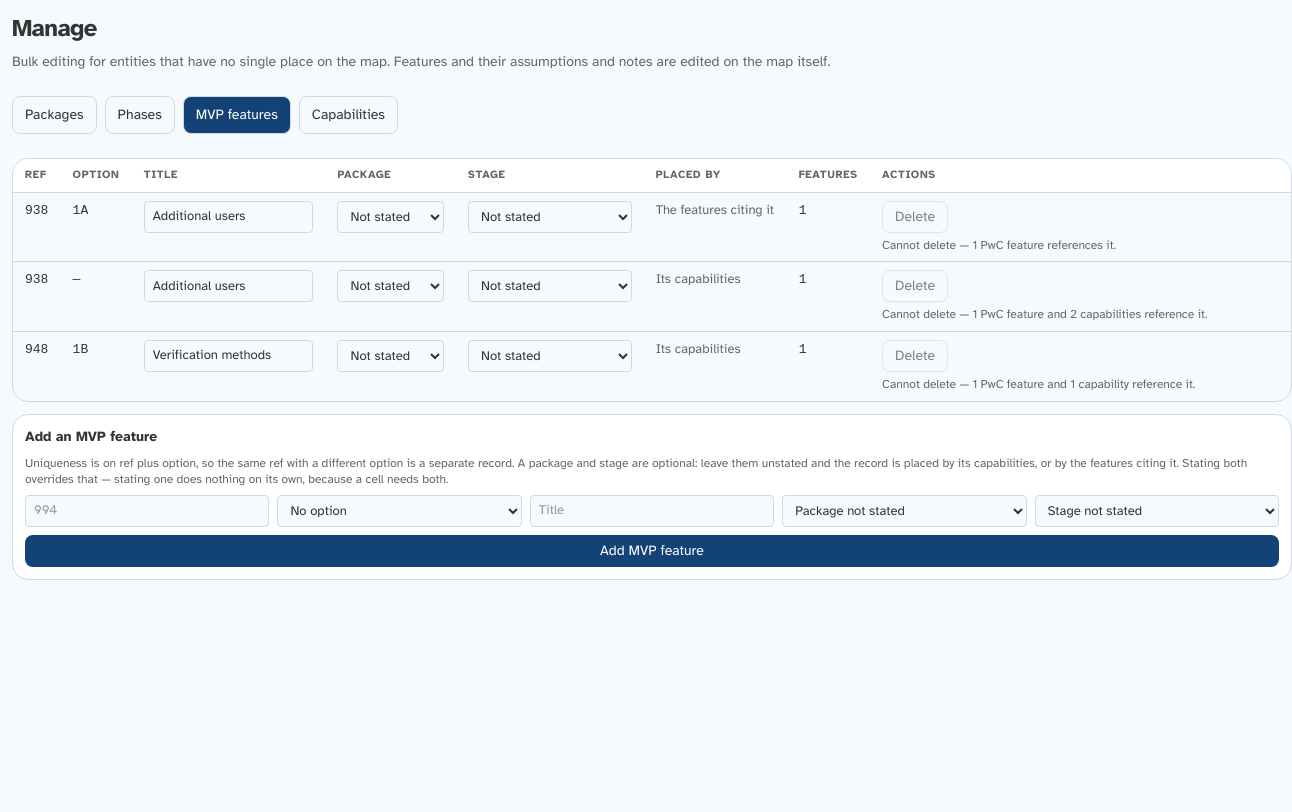
Test: Manage — adding an MSD feature › names a ref that is not a number back to the person who typed it
The width and height of the screenshot is (1292, 812).
Check: the table named "MVP features" is shown, box [13,159,1291,401]
Type "99a" into the field named "New MVP ref" at [147, 511], box [25,495,269,527]
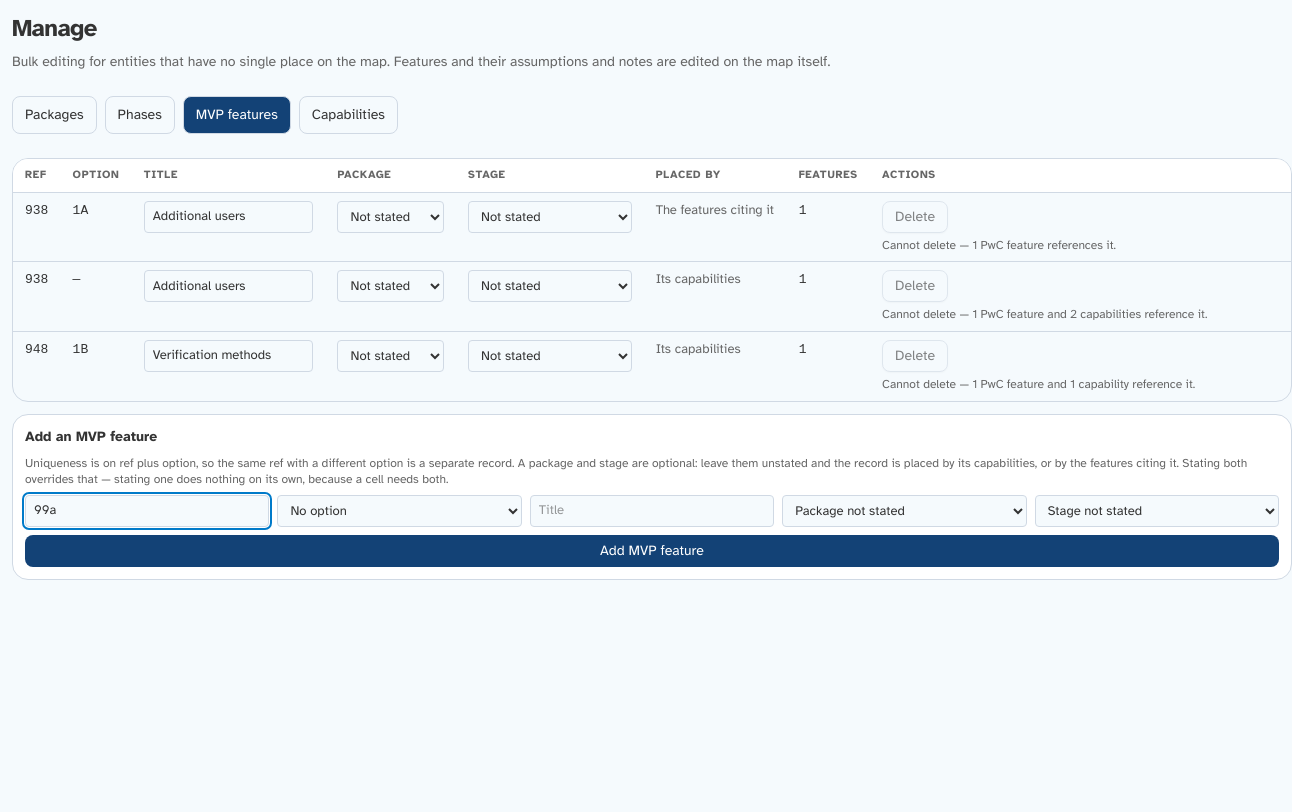
Type "Typo" into the field named "New MVP title" at [652, 511], box [530,495,774,527]
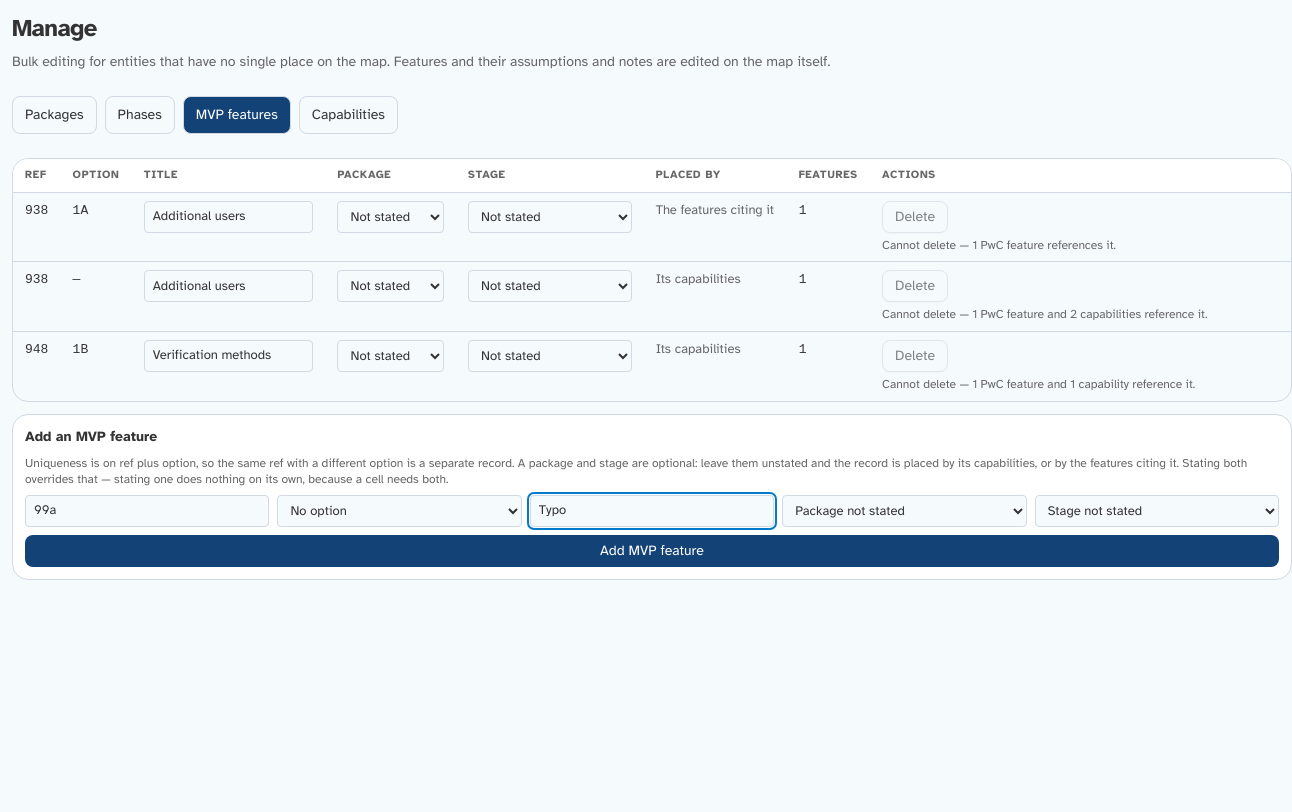
Click the button "Add MVP feature" at [652, 551], box [25,535,1279,567]
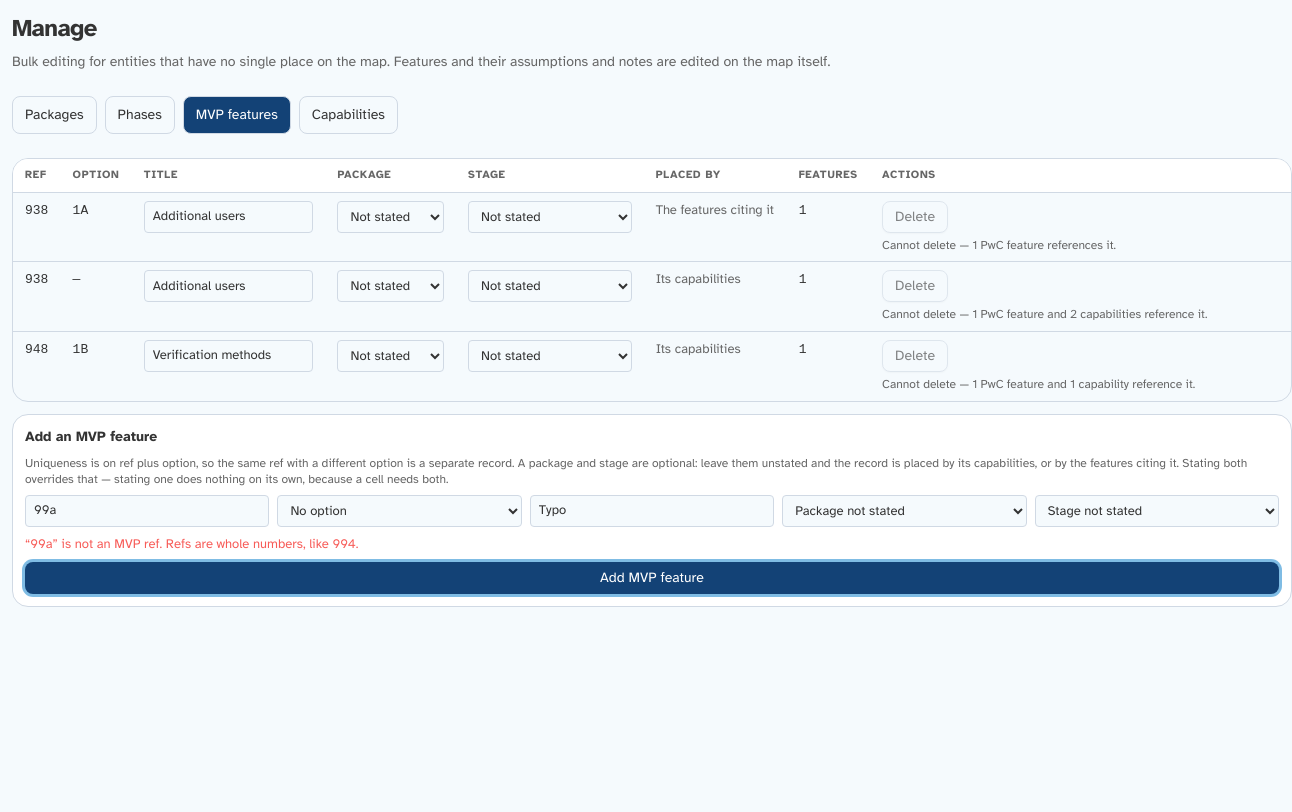
Check: the message shows "“99a” is not an MVP ref", box [25,536,358,552]
